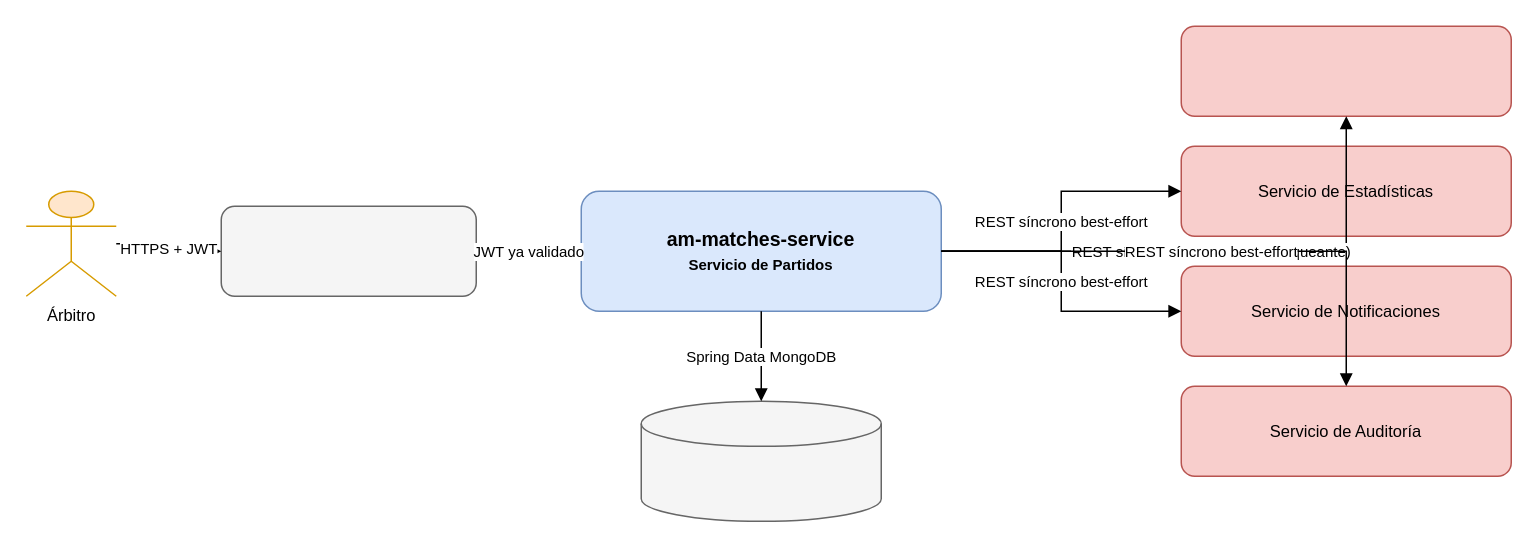
The diagram is 1538 pixels wide and 548 high, and some of its shapes have lost their labels. Here are the shapes that lost their labels. From the top down, the centre of each, then its label:
(x=1345, y=70): Servicio de Competencia
(x=348, y=250): API Gateway valida firma y expiración del JWT
(x=760, y=460): MongoDB techcup_matches
